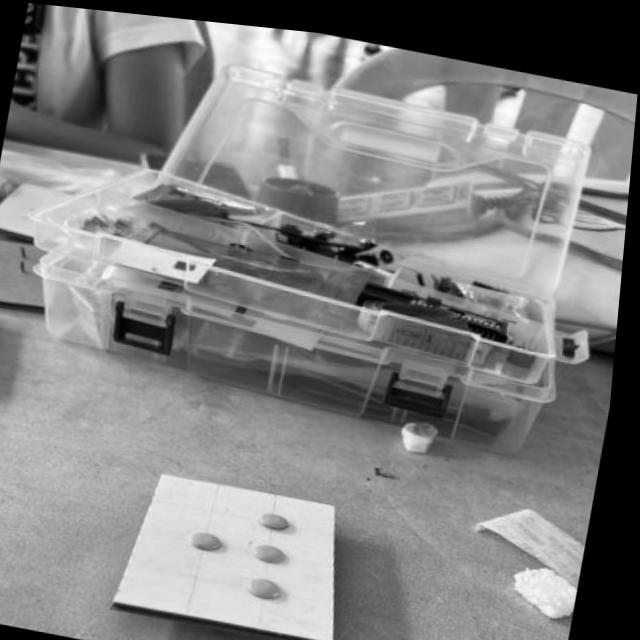braiile: (129, 467, 343, 629)
